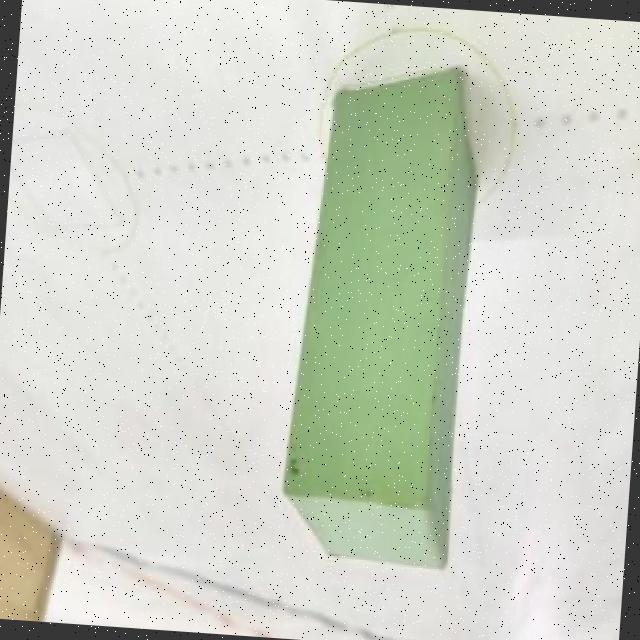greenbox: (276, 54, 487, 571)
